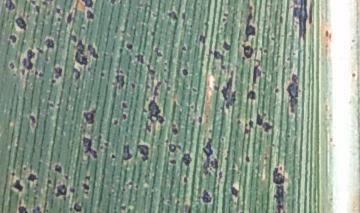tarspot: (197, 133, 222, 181), (289, 1, 315, 44), (269, 163, 291, 213), (284, 69, 303, 122), (139, 96, 164, 133), (218, 71, 238, 110), (77, 134, 99, 164), (241, 10, 258, 43), (79, 105, 103, 126), (255, 108, 273, 134), (249, 58, 265, 86), (135, 140, 153, 164), (208, 48, 226, 70), (20, 47, 37, 70), (75, 43, 87, 69), (120, 142, 134, 164), (13, 12, 29, 30), (199, 187, 214, 206), (87, 41, 100, 62), (111, 73, 126, 91), (42, 35, 58, 51), (142, 64, 159, 79), (150, 80, 164, 98), (165, 140, 182, 154), (164, 9, 181, 23), (54, 183, 67, 201), (242, 43, 255, 61), (64, 6, 75, 27), (168, 119, 180, 138), (179, 151, 193, 167), (11, 178, 25, 193), (133, 51, 148, 65), (196, 31, 209, 47), (153, 45, 165, 62), (220, 38, 234, 52), (51, 162, 66, 175), (245, 87, 257, 103), (229, 184, 242, 198), (83, 9, 98, 21), (51, 66, 66, 78), (179, 64, 190, 80), (70, 64, 80, 81), (4, 1, 18, 13), (14, 202, 29, 213), (28, 113, 38, 129), (31, 202, 45, 213), (68, 201, 82, 212), (7, 30, 17, 45), (81, 181, 91, 196), (167, 156, 178, 169), (66, 33, 80, 43), (8, 57, 17, 72), (28, 172, 39, 184), (80, 1, 96, 9), (180, 9, 189, 23), (119, 99, 130, 110), (178, 43, 189, 54), (118, 201, 129, 212), (243, 152, 253, 164), (246, 117, 256, 129), (34, 67, 43, 80), (180, 174, 189, 186), (53, 5, 63, 15), (78, 23, 88, 33), (272, 85, 281, 96), (121, 110, 129, 122), (124, 180, 136, 188), (125, 40, 134, 50), (111, 117, 120, 127), (196, 114, 205, 124), (278, 12, 284, 27), (164, 84, 174, 93), (48, 76, 58, 85), (82, 173, 93, 181), (130, 81, 138, 92), (159, 66, 171, 73), (118, 46, 126, 56), (68, 185, 76, 195), (33, 5, 43, 13), (97, 71, 108, 78), (115, 67, 126, 74), (221, 10, 232, 17), (109, 152, 117, 161), (20, 164, 29, 172), (43, 55, 51, 64), (234, 118, 243, 126), (143, 83, 151, 92), (203, 20, 211, 29), (191, 85, 198, 95), (270, 33, 277, 43), (149, 29, 157, 37), (263, 47, 271, 55), (29, 1, 39, 7), (55, 15, 63, 22), (108, 1, 119, 6), (8, 170, 17, 176), (101, 141, 111, 146), (45, 177, 52, 184), (221, 18, 228, 23)
